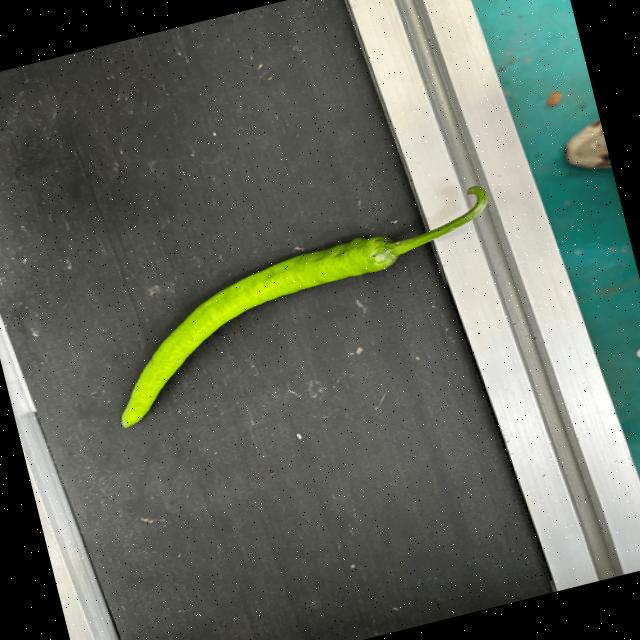chili: (117, 235, 401, 430)
